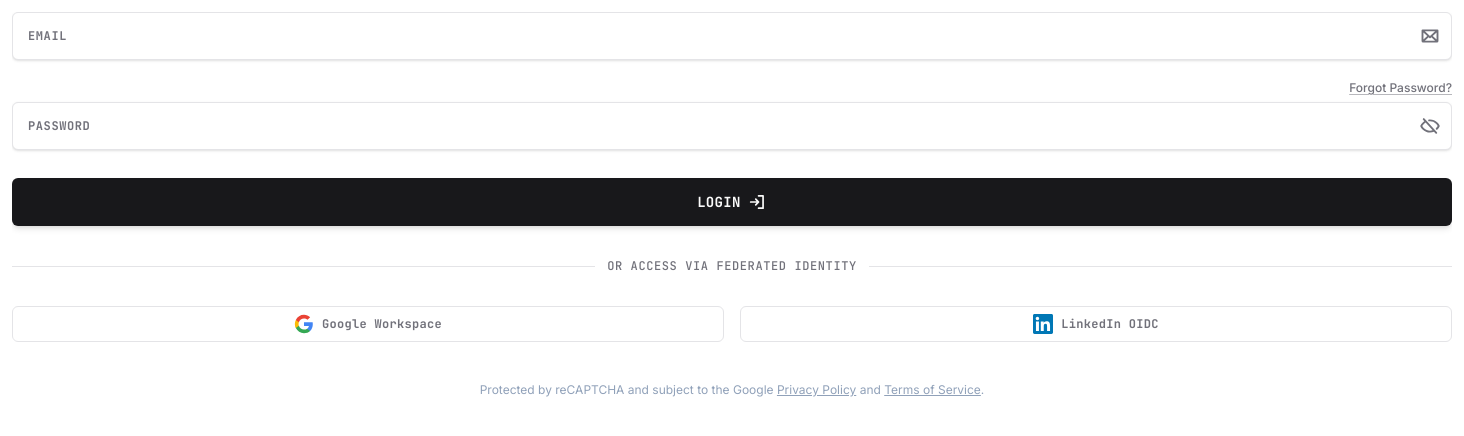
Scenario: LoginForm › validation › shows min length error for short password
Type "Aa1!" into the password field labelled "Password" at (732, 126), box [12,102,1452,150]
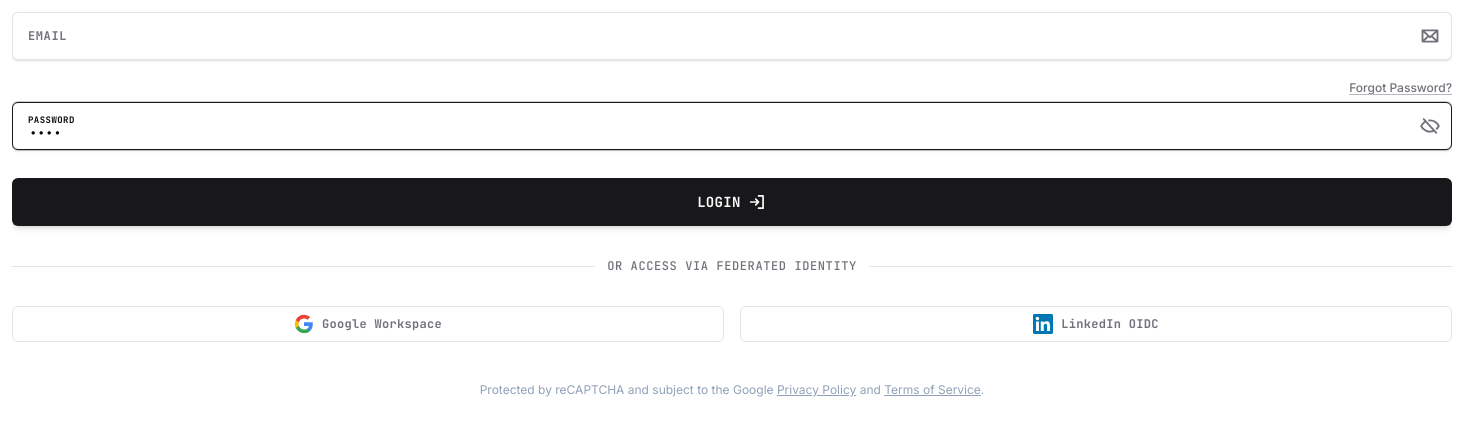
Press Tab
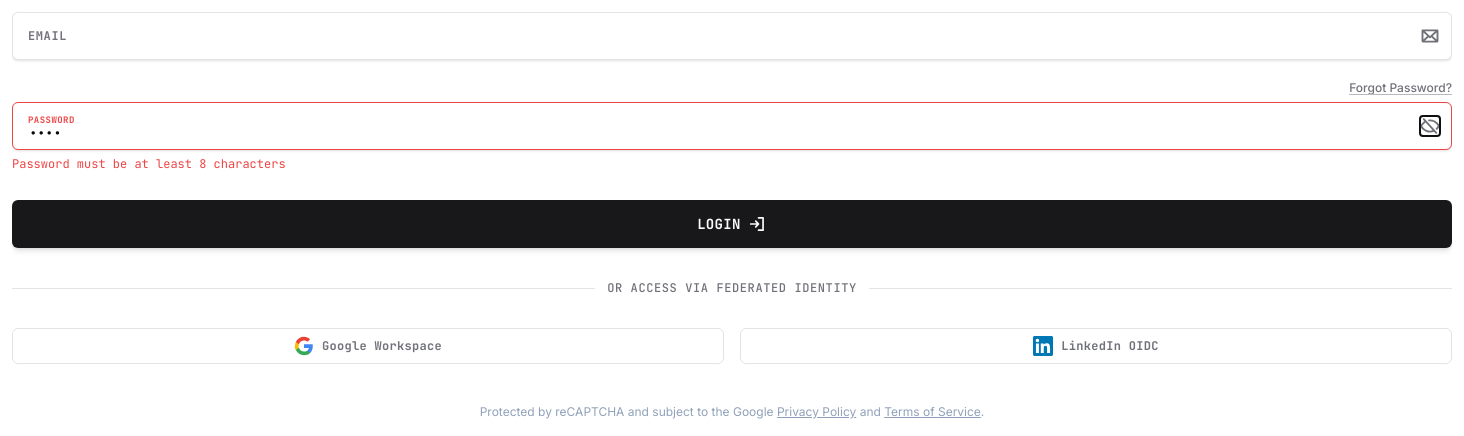
expect the text "Password must be at least 8 characters" is shown: met, box [12,156,286,172]
